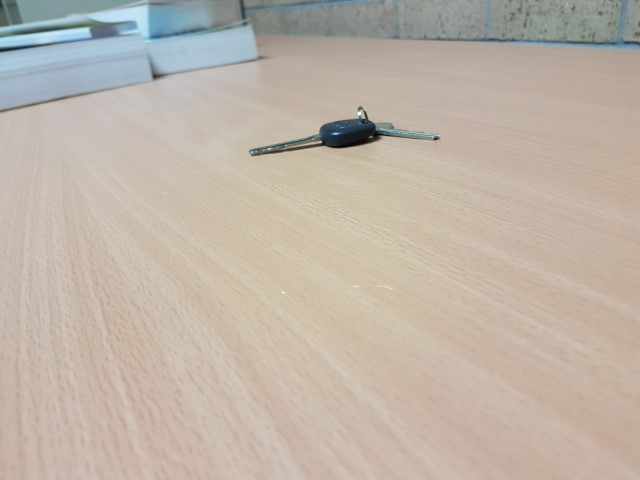key: (248, 117, 372, 155)
